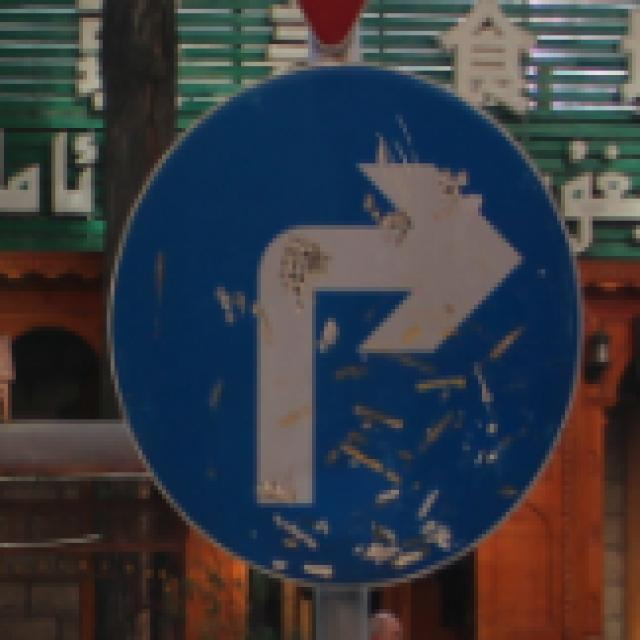Right: (103, 55, 585, 590)
